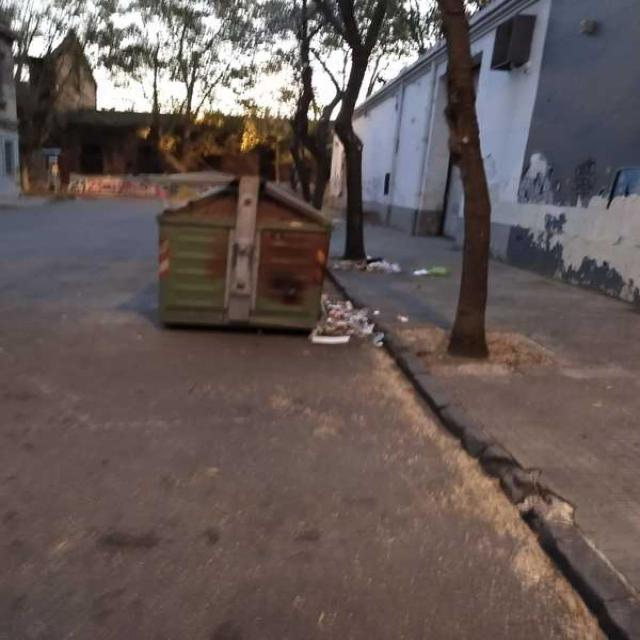garbage: (319, 285, 381, 356), (338, 250, 444, 283)
